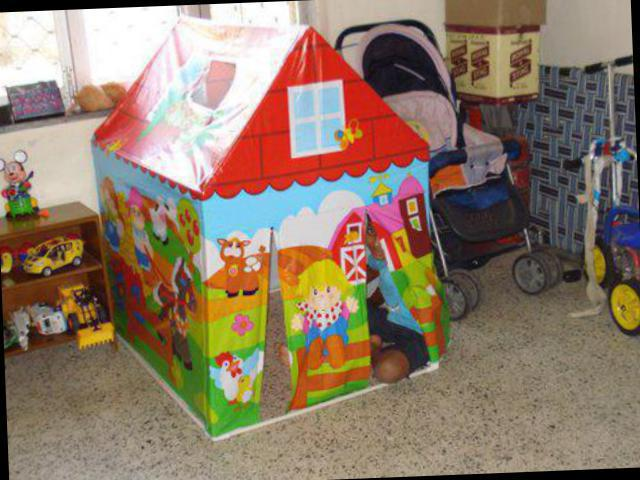Otro Obstaculo: (83, 17, 457, 434), (352, 7, 576, 317), (553, 40, 640, 345)
